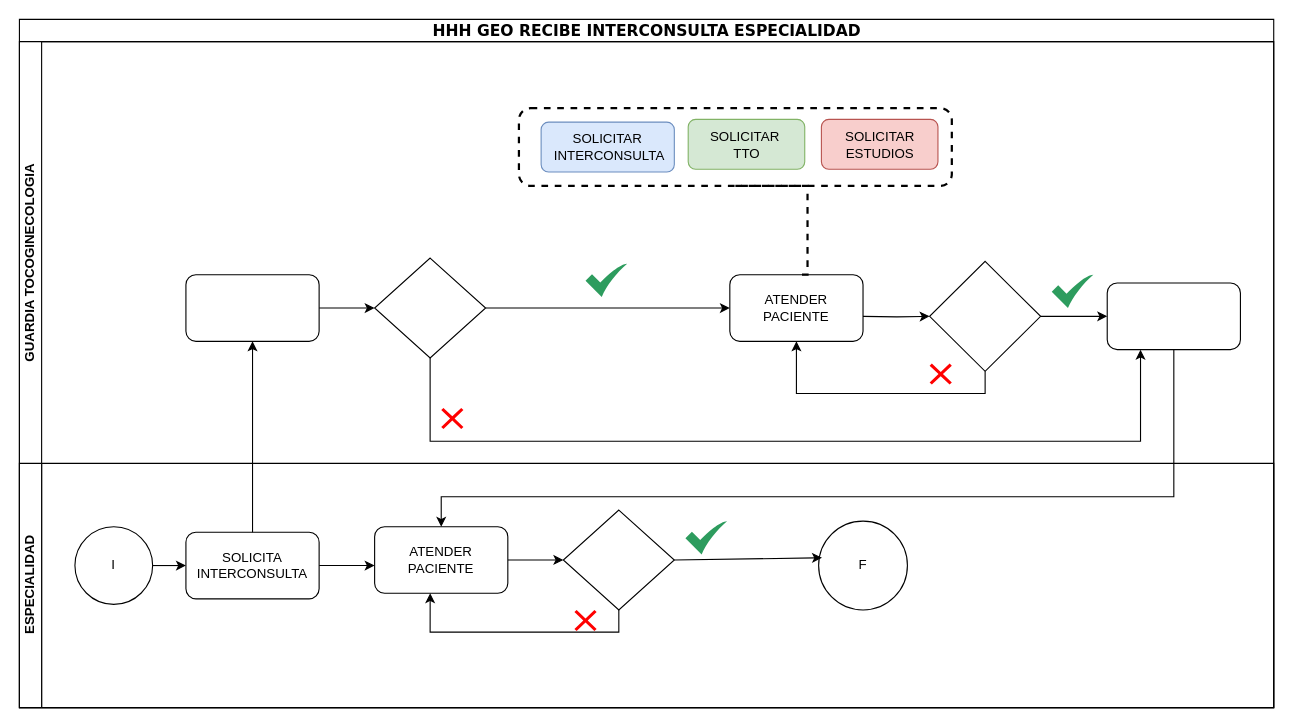
Some shapes in this 1293 by 727 pixel diagram are drawn without their labels. Here are the shapes that lost their labels. From the top down, the centre of each, then its label:
(252,307): REALIZAR INTERCONSULTA
(430,307): ES TG
(985,315): FINALIZA INTERCONSULTA
(1173,316): AVISAR AL SOLICITANTE
(618,559): FINALIZA CONSULTA
